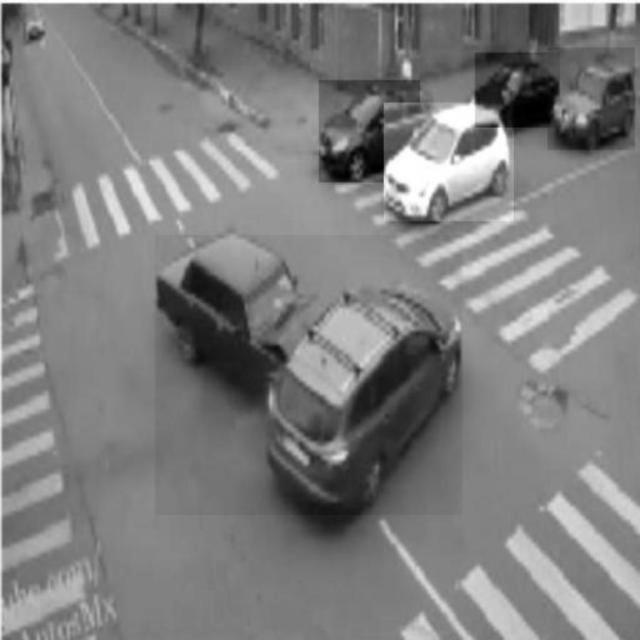accident: (154, 236, 462, 516)
vehicle: (385, 103, 515, 221), (319, 80, 420, 182), (547, 48, 635, 150), (475, 53, 559, 127)
